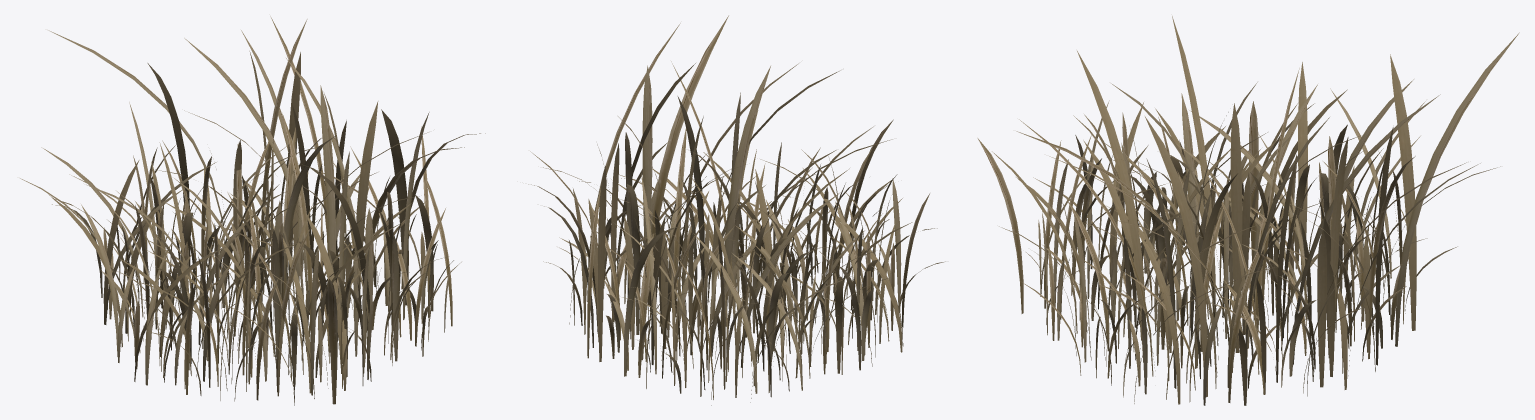
The model's file is oasis-grass.glb.
3 views of the same model, side by side, from view 1: azimuth 30°, elevation 25°; view 2: azimuth 150°, elevation 25°; view 3: azimuth 270°, elevation 25° (orthographic). The views are drawn at different scales.
Parts seen in each view (by area): view 1: oasis_grass_b, oasis_grass_a, oasis_grass_c; view 2: oasis_grass_b, oasis_grass_a, oasis_grass_c; view 3: oasis_grass_a, oasis_grass_b, oasis_grass_c.
Boxes of the visible parts, <box> form: oasis_grass_b: <box>48,16,464,405</box>; oasis_grass_a: <box>41,19,450,400</box>; oasis_grass_c: <box>20,109,485,404</box>; oasis_grass_b: <box>528,15,945,405</box>; oasis_grass_a: <box>530,66,929,396</box>; oasis_grass_c: <box>569,23,897,402</box>; oasis_grass_a: <box>1016,32,1519,402</box>; oasis_grass_b: <box>992,89,1500,405</box>; oasis_grass_c: <box>977,16,1427,404</box>.
Size of the model in its own units: 1.64 by 1 by 1.94.
Materials: 1 (1 with a texture image).
